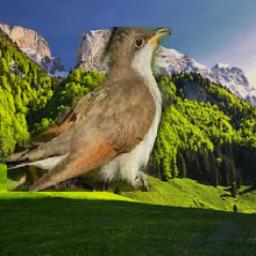Cuckoo: (8, 27, 172, 192)
